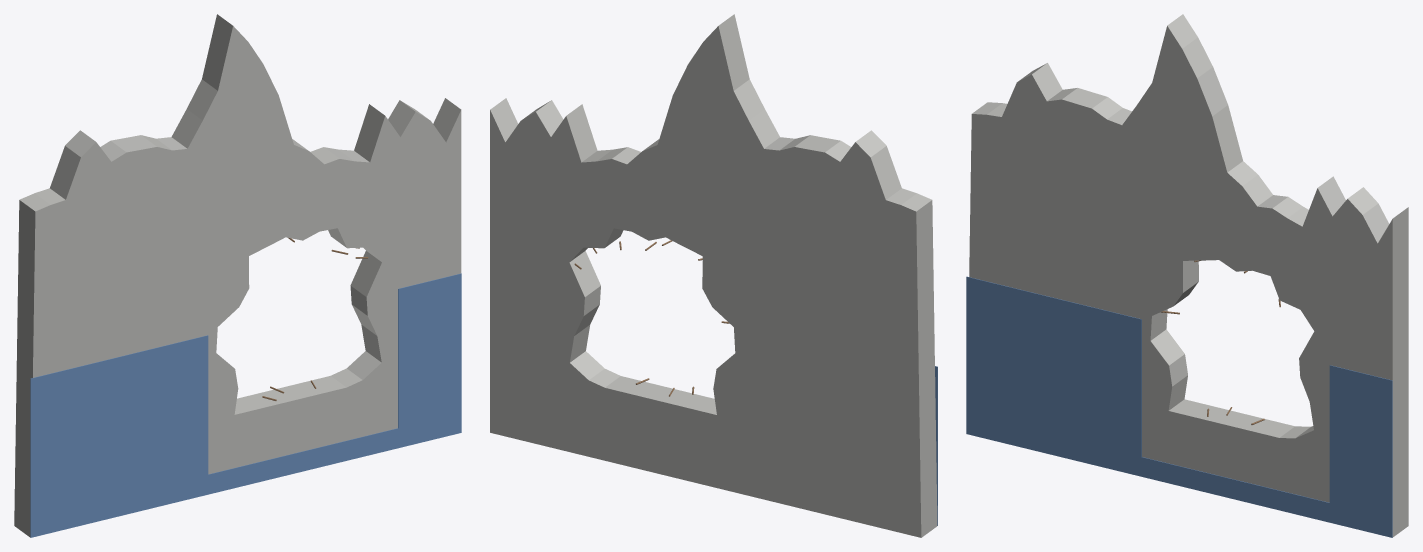
File: bari_wall.fbx
3 renders of one model, left to right at view 1: azimuth 30°, elevation 25°; view 2: azimuth 150°, elevation 25°; view 3: azimuth 330°, elevation 25°, orthographic.
Parts seen in each view (by area): view 1: Fac_Wall, Fac_WallBand; view 2: Fac_Wall; view 3: Fac_Wall, Fac_WallBand.
Part boxes in pixels (box(x1,y1,x2,y2)): Fac_Wall: box(14, 14, 461, 537); Fac_WallBand: box(30, 273, 461, 537); Fac_Wall: box(490, 14, 937, 537); Fac_Wall: box(969, 14, 1408, 537); Fac_WallBand: box(966, 276, 1392, 537).
Size of the model in its own units: 3.4 by 3.49 by 0.2766.
